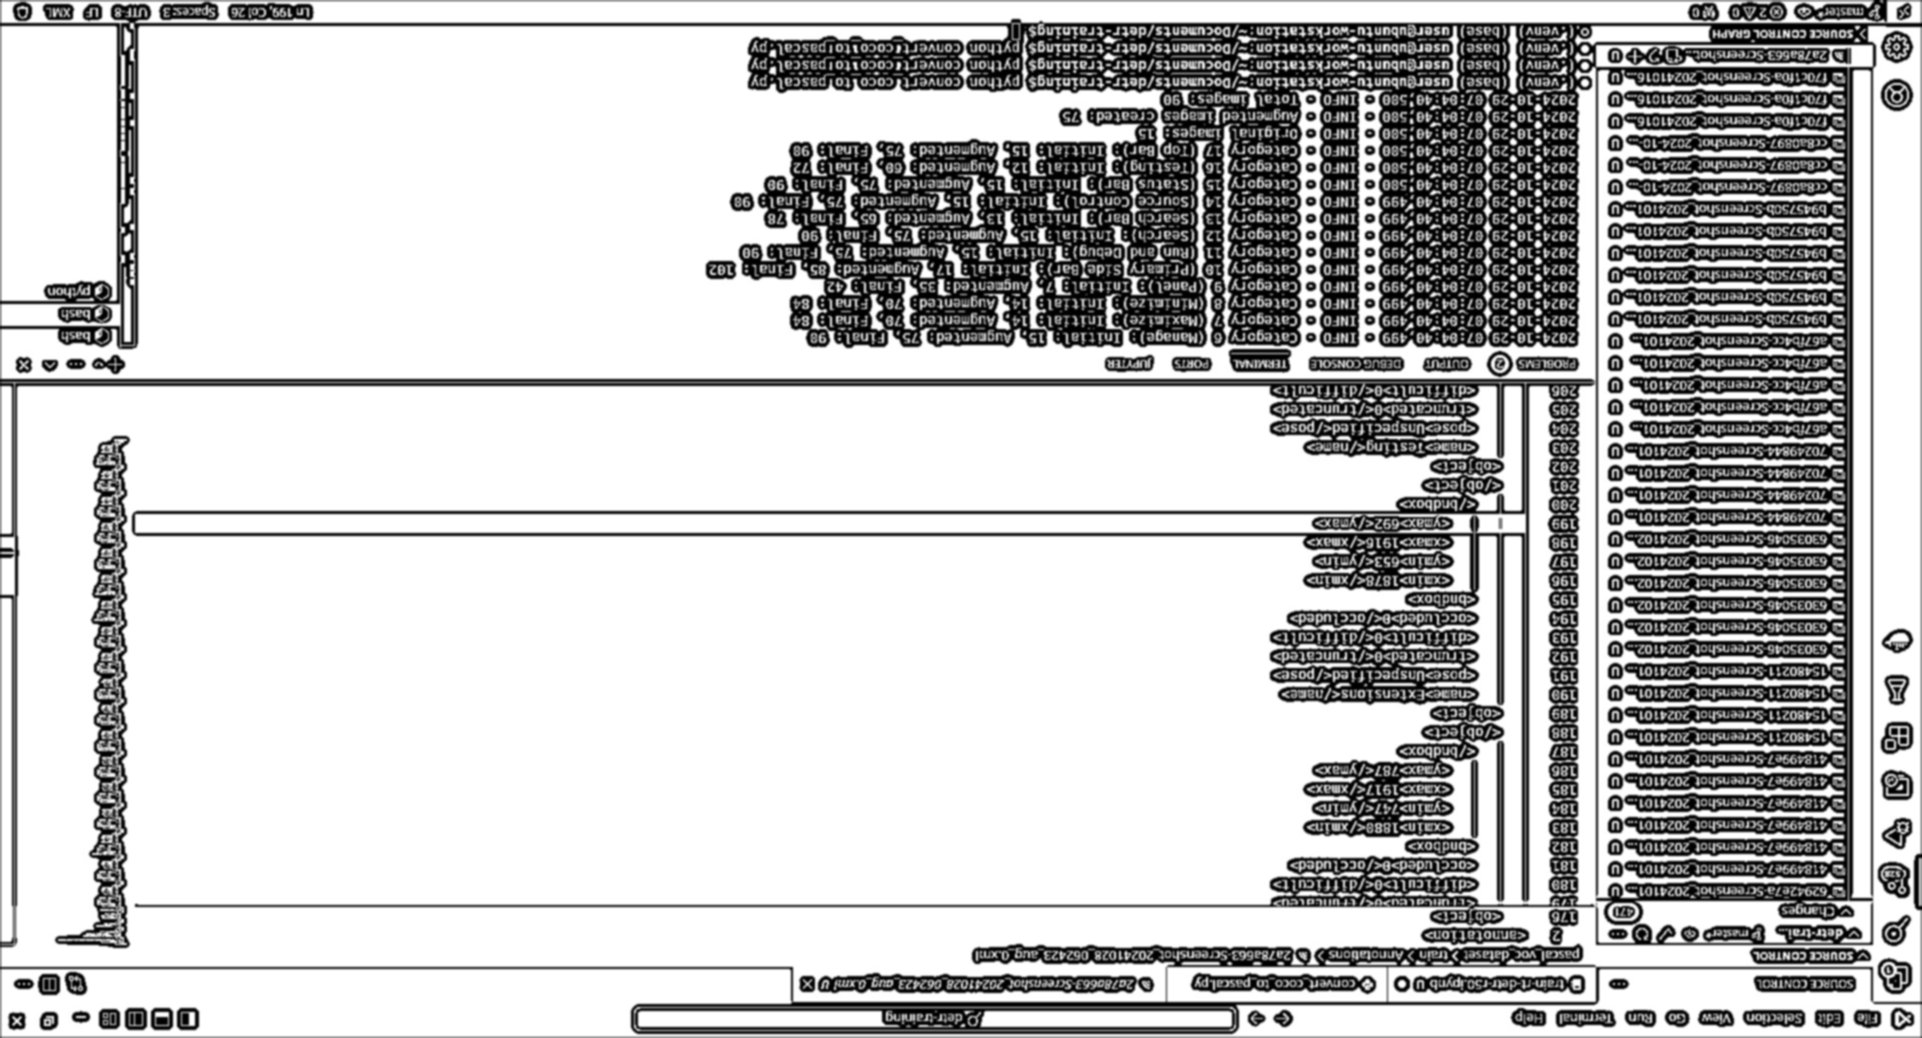Accounts: (1882, 77, 1916, 113)
Activity Bar: (1874, 23, 1922, 998)
Close: (6, 1012, 28, 1037)
Editor: (6, 388, 1596, 1001)
Explorer: (1879, 958, 1919, 995)
Extensions: (1882, 720, 1916, 754)
Manage: (1883, 32, 1913, 63)
Maximize: (39, 1010, 63, 1032)
Minimize: (70, 1011, 91, 1032)
Panel: (3, 31, 1594, 381)
Primary Side Bar: (1598, 26, 1873, 999)
Run and Debug: (1882, 819, 1918, 855)
Search: (1881, 912, 1918, 948)
Search Bar: (629, 1005, 1242, 1035)
Source Control: (1880, 862, 1916, 902)
Status Bar: (3, 3, 1919, 27)
Testing: (1883, 674, 1916, 710)
Top Bar: (3, 1003, 1922, 1037)
